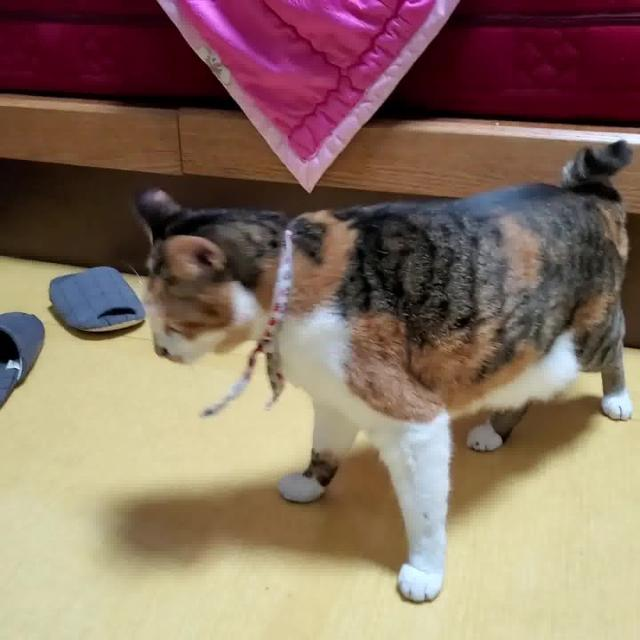cat: (127, 135, 640, 604)
